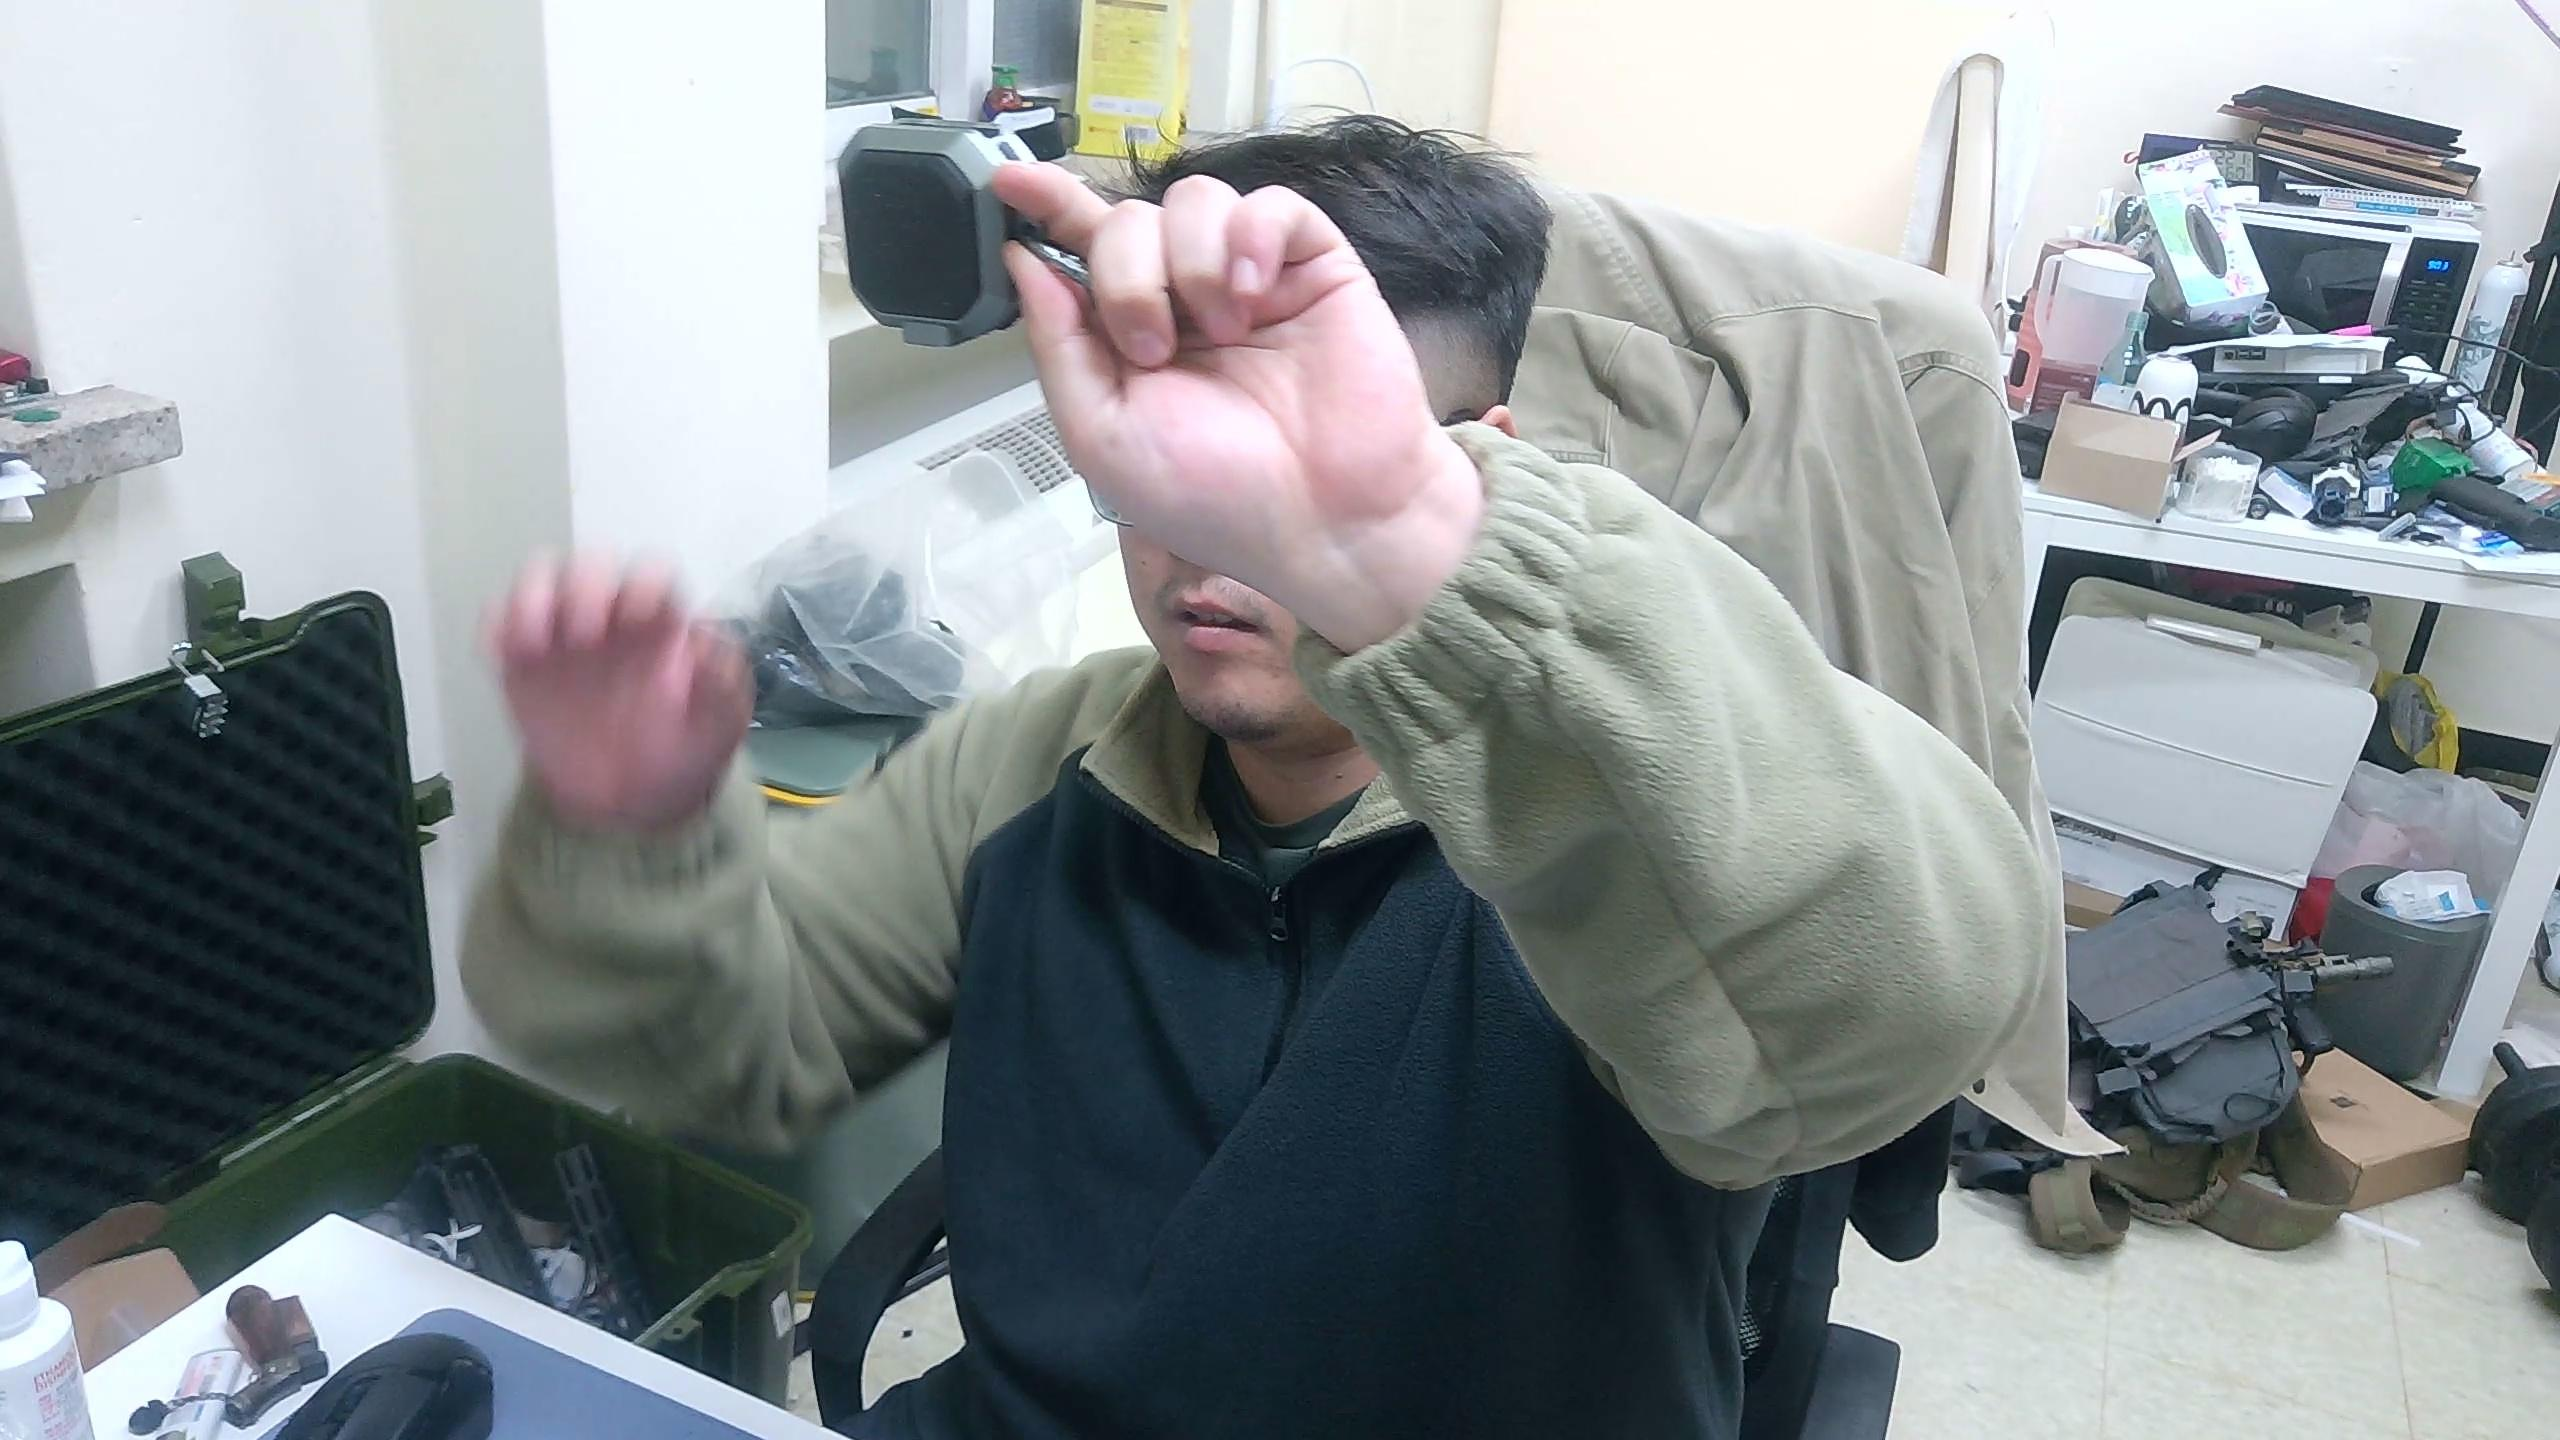blue_pliers: (835, 111, 1094, 350)
